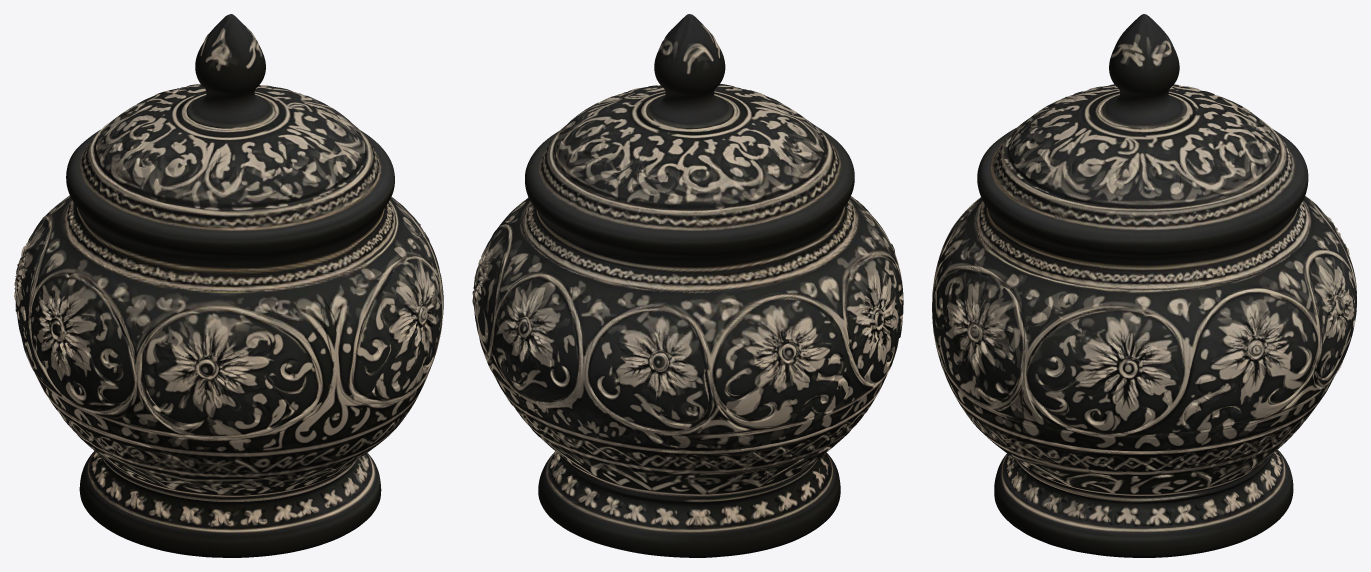
Rendered from Bidriware.glb.
The picture shows the model from 3 angles, left to right: view 1: azimuth 30°, elevation 25°; view 2: azimuth 150°, elevation 25°; view 3: azimuth 270°, elevation 25°; orthographic projection.
Visible parts, largest first — view 1: tripo_node_0c62a326-2a8f-4a51-9fef-7a5fb8383ff5; view 2: tripo_node_0c62a326-2a8f-4a51-9fef-7a5fb8383ff5; view 3: tripo_node_0c62a326-2a8f-4a51-9fef-7a5fb8383ff5.
Boxes of the visible parts, x1=… form: tripo_node_0c62a326-2a8f-4a51-9fef-7a5fb8383ff5: x1=14, y1=14, x2=443, y2=557; tripo_node_0c62a326-2a8f-4a51-9fef-7a5fb8383ff5: x1=472, y1=14, x2=903, y2=557; tripo_node_0c62a326-2a8f-4a51-9fef-7a5fb8383ff5: x1=932, y1=14, x2=1356, y2=557.
Bounding box in the file's own units: 0.8043 × 1 × 0.7986.
Materials: 1 (1 with a texture image).
